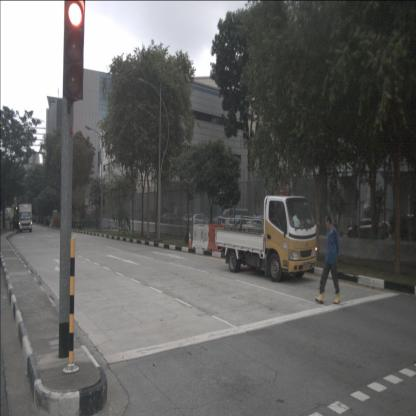barrier: (208, 222, 233, 255)
cone: (191, 224, 210, 252), (188, 231, 192, 252)
